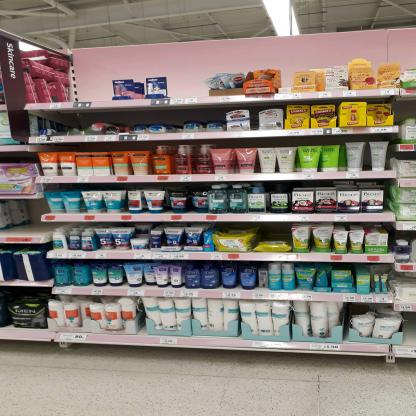Void: (44, 109, 228, 121), (6, 200, 51, 235), (61, 70, 110, 102), (170, 63, 206, 97), (256, 222, 291, 241), (209, 221, 249, 235)
